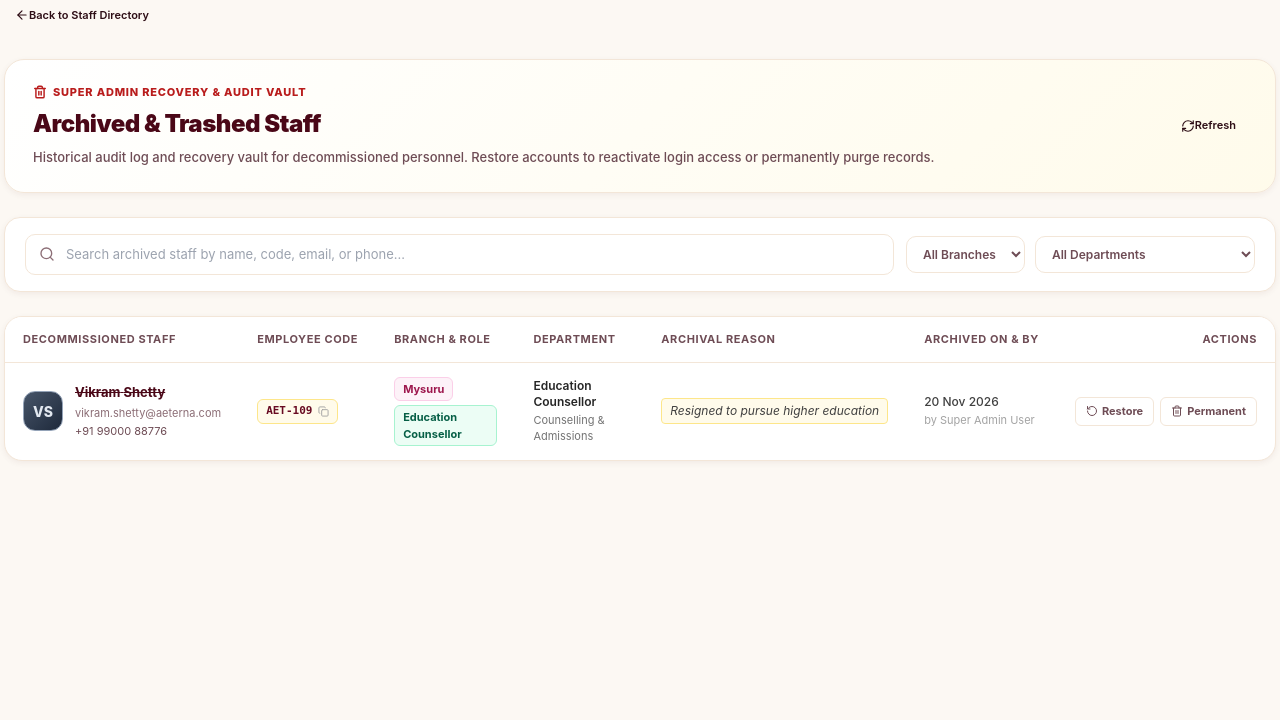
Test: ArchivedEmployeesPage Component Suite (Dedicated Trash Vault) › opens restore confirm dialog when clicking Restore button
Click the button "Restore" at (1114, 411), box [1075, 397, 1154, 426]
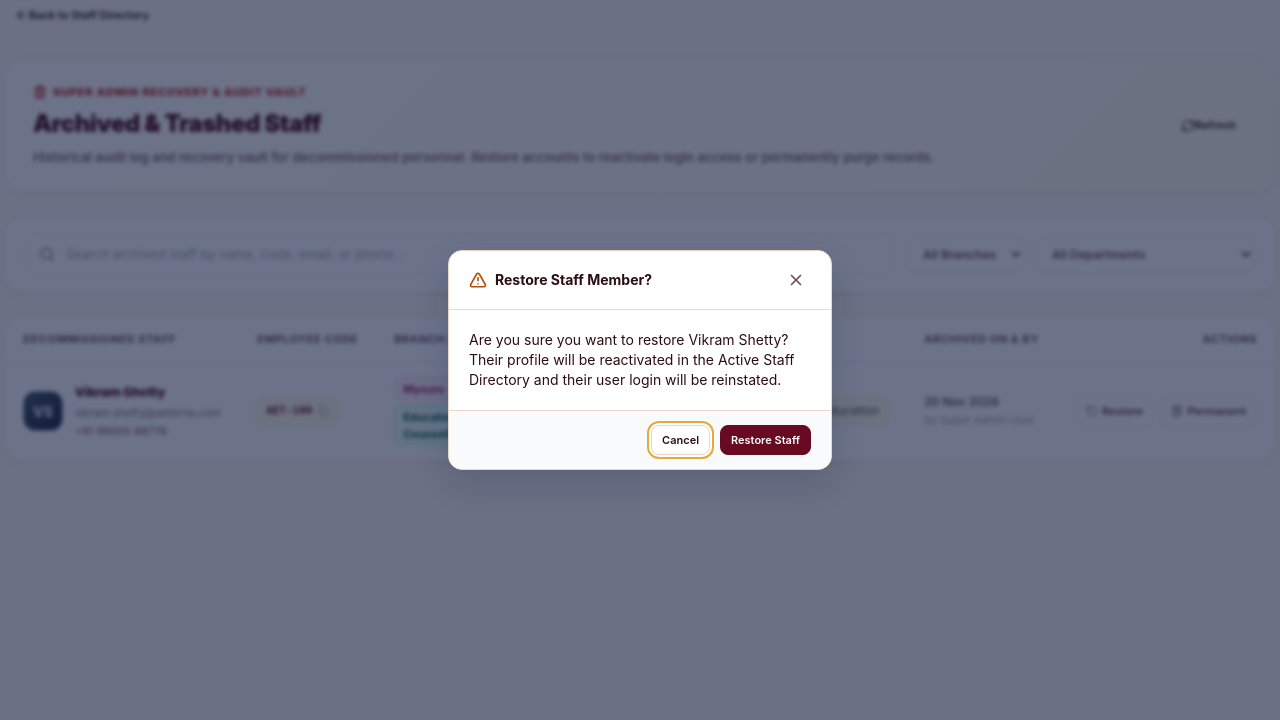
Expected: the heading "Restore Staff Member?" is shown, [495, 269, 652, 290]
Expected: the text "Are you sure you want to restore Vikram Shetty" is shown, [469, 331, 794, 388]
